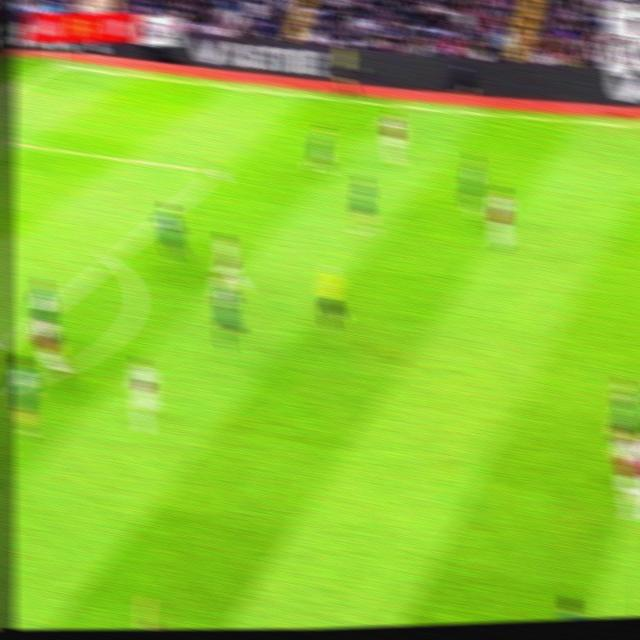bigarea_top_inner: (203, 157, 230, 184)
corner: (43, 54, 71, 73)
top_arc_area_intersection: (98, 245, 124, 270)
